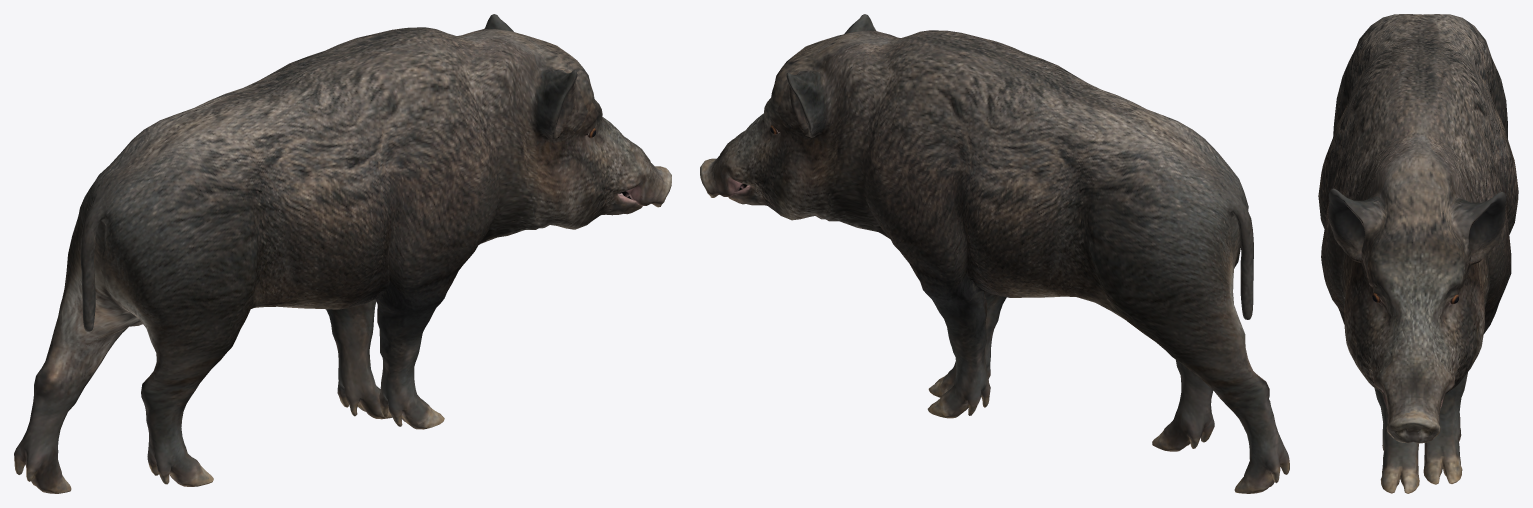
File: imported-boar.glb
The picture shows the model from 3 angles, left to right: view 1: azimuth 30°, elevation 25°; view 2: azimuth 150°, elevation 25°; view 3: azimuth 270°, elevation 25°; orthographic projection. The views are drawn at different scales.
Parts seen in each view (by area): view 1: Boar_Lower.001_applied_clean_M_Boar_0; view 2: Boar_Lower.001_applied_clean_M_Boar_0; view 3: Boar_Lower.001_applied_clean_M_Boar_0.
Boxes of the visible parts, bbox=[...] form: Boar_Lower.001_applied_clean_M_Boar_0: bbox=[14, 14, 671, 493]; Boar_Lower.001_applied_clean_M_Boar_0: bbox=[700, 14, 1289, 493]; Boar_Lower.001_applied_clean_M_Boar_0: bbox=[1318, 14, 1518, 493].
Bounding box in the file's own units: 1.46 × 0.85 × 0.3868.
Materials: 1 (1 with a texture image).
